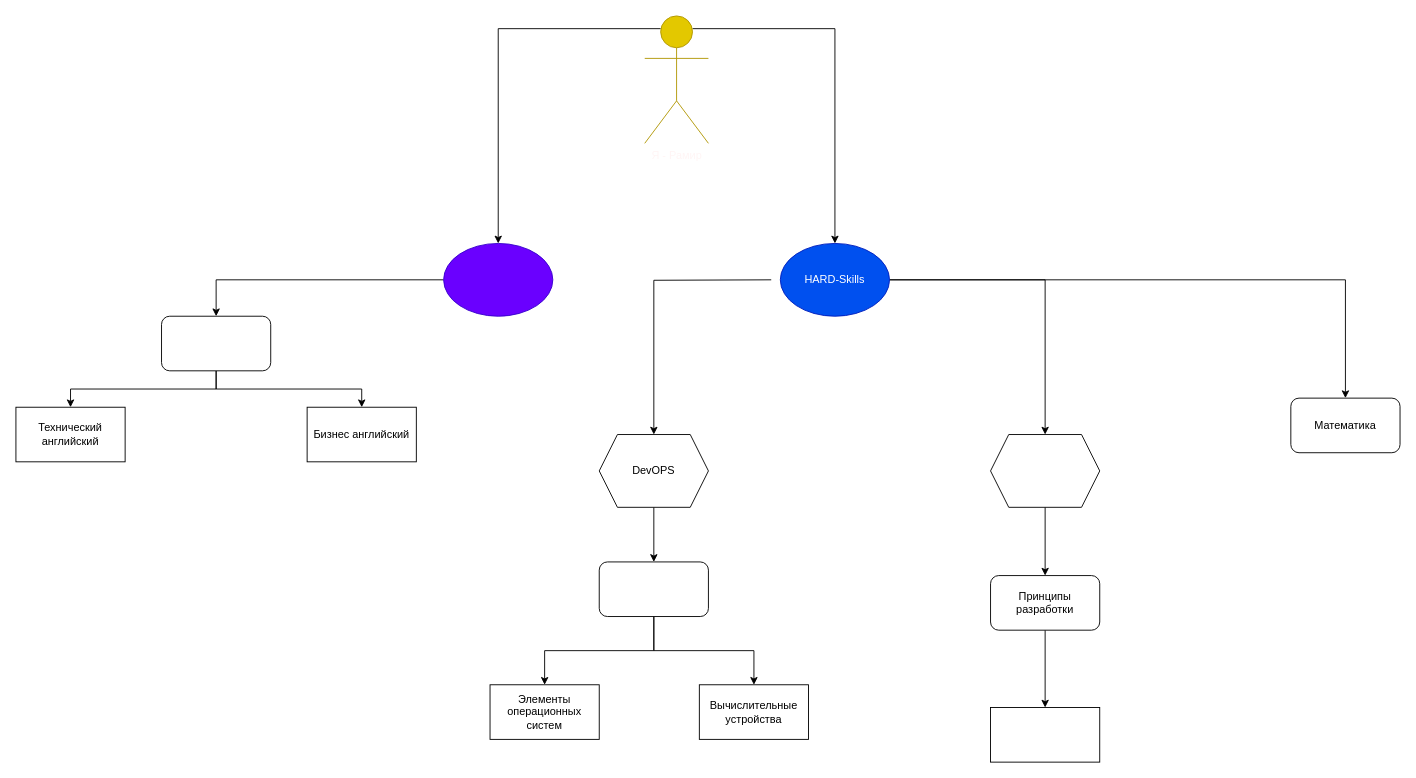
Image size: 1416x778. Some labels were removed from this diagram. Here are the shapes that lost their labels. From the top down, the centre of each, then its label:
At (x=498, y=279): "SOFT-Skills".
At (x=216, y=343): "Английский язык".
At (x=1045, y=470): "Managment".
At (x=653, y=589): "Общее устройство компьютера".
At (x=1045, y=734): "KISS, DRY, YAGNI, SOLID".
